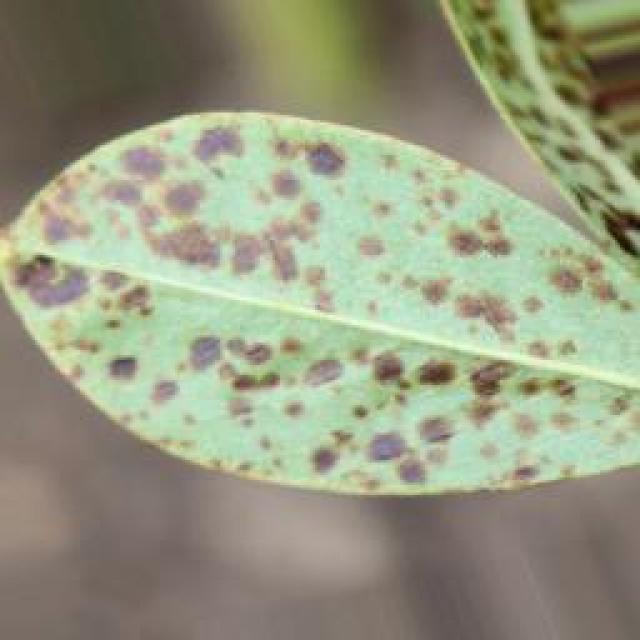Whitefly: (0, 0, 640, 514)
